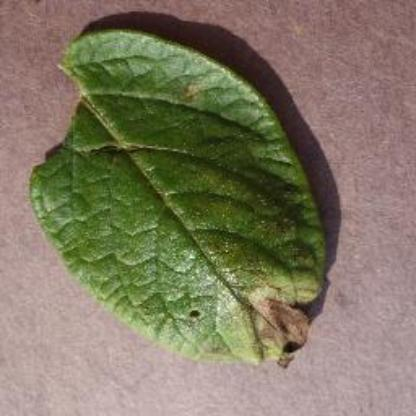Late-Blight: (42, 26, 354, 378)
